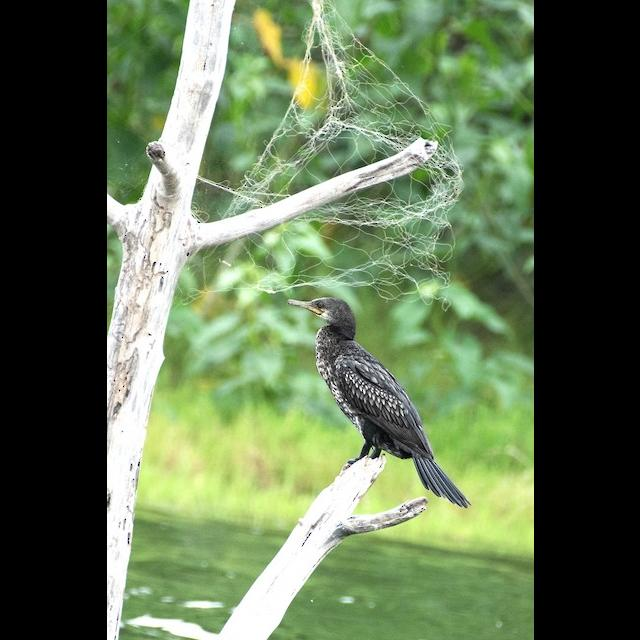cormorant: (280, 290, 472, 510)
